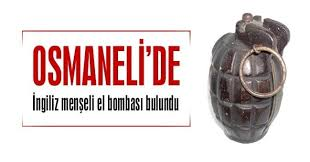e1: (209, 14, 292, 143)
